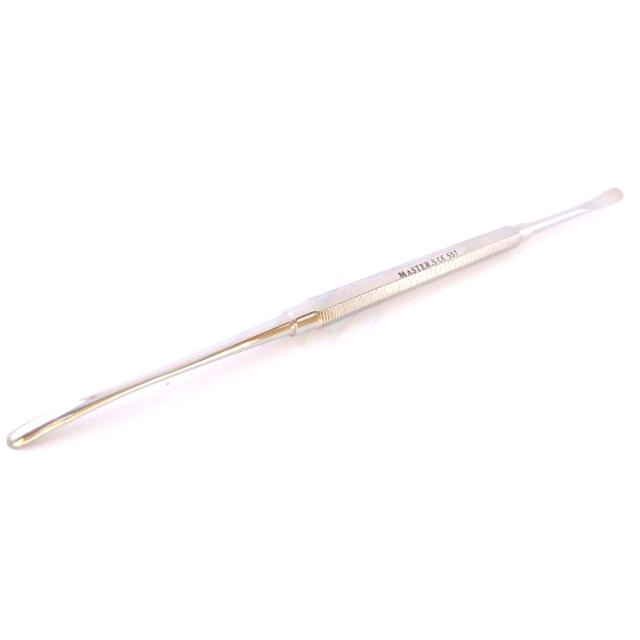elevador: (5, 188, 627, 454)
